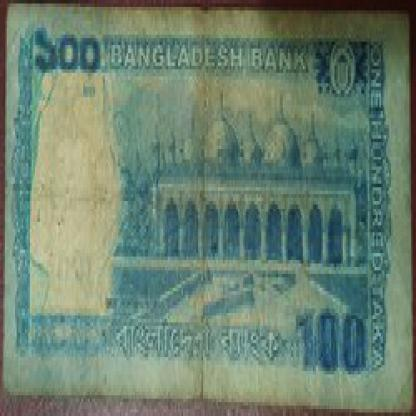one hundred taka: (294, 302, 367, 381), (30, 24, 101, 83)
